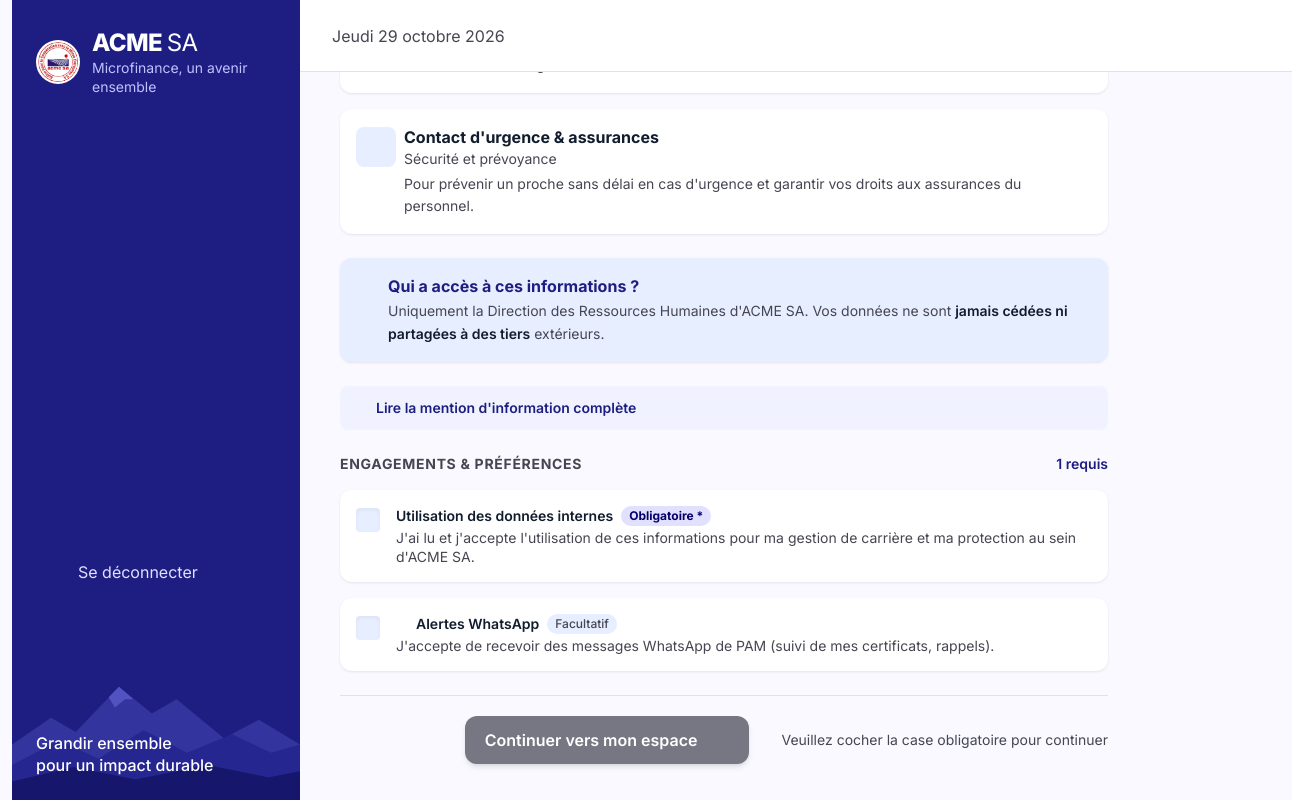
US-202 CA-01 — Avant de commencer › la mention complète se lit sur place
(page scrolled)
Click the text "Lire la mention d'information complète": {"x": 492, "y": 408} [348,398,636,418]
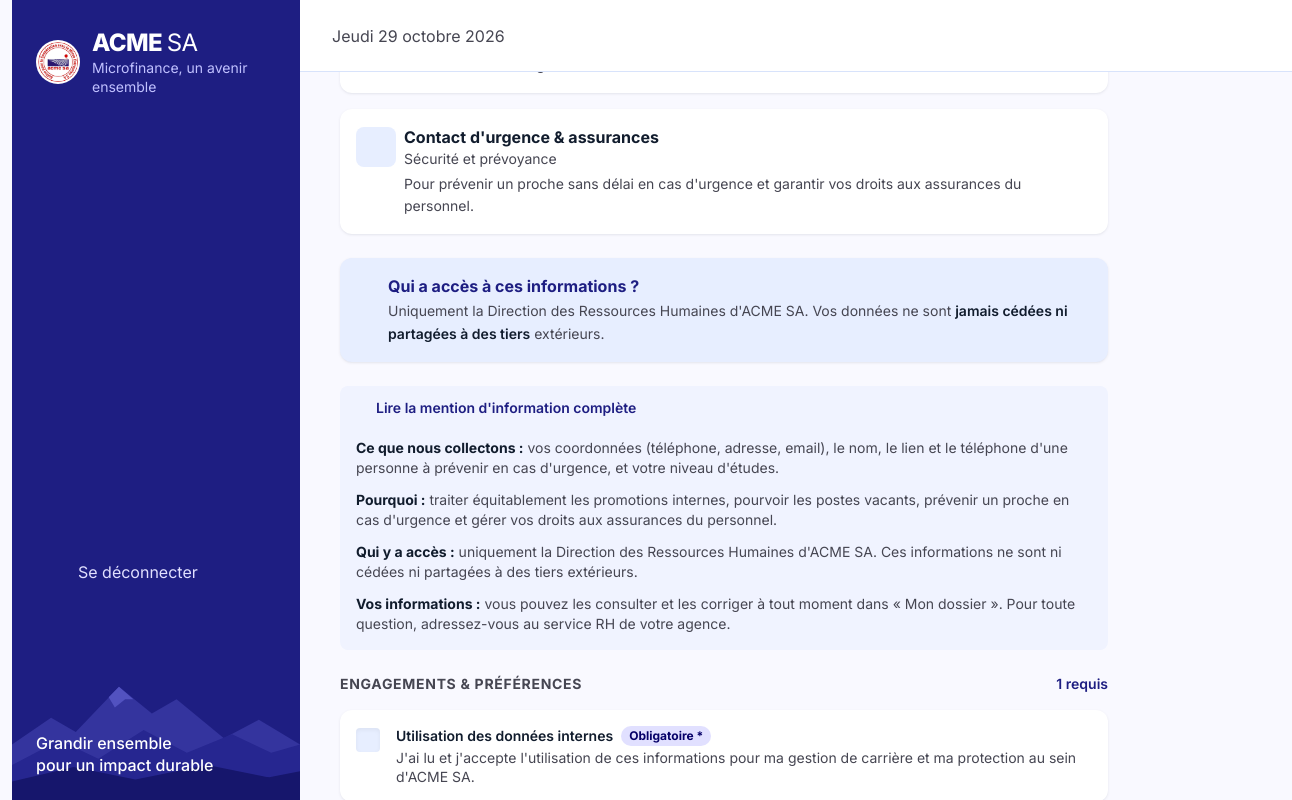
Result: the text "Ce que nous collectons :" is shown at [356,438,524,456]
